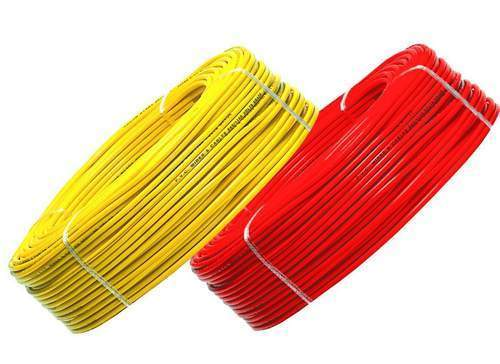Nonrec_Tangler: (9, 26, 493, 340)
